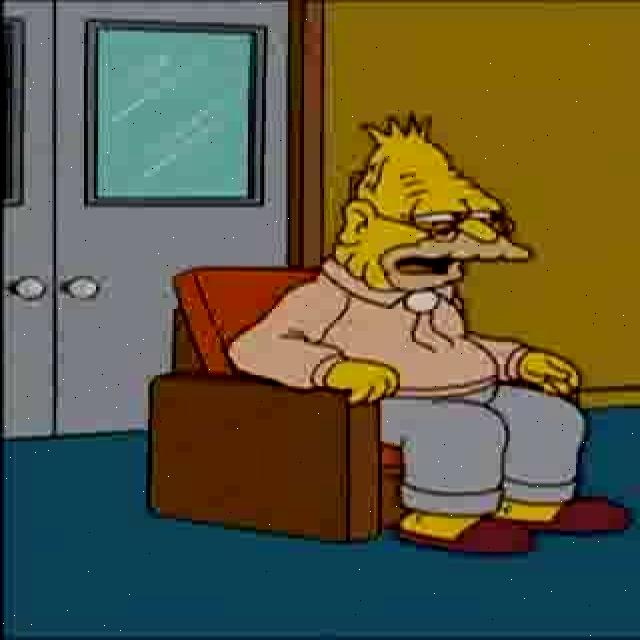Abraham Grampa Simpson: (329, 110, 543, 298)
